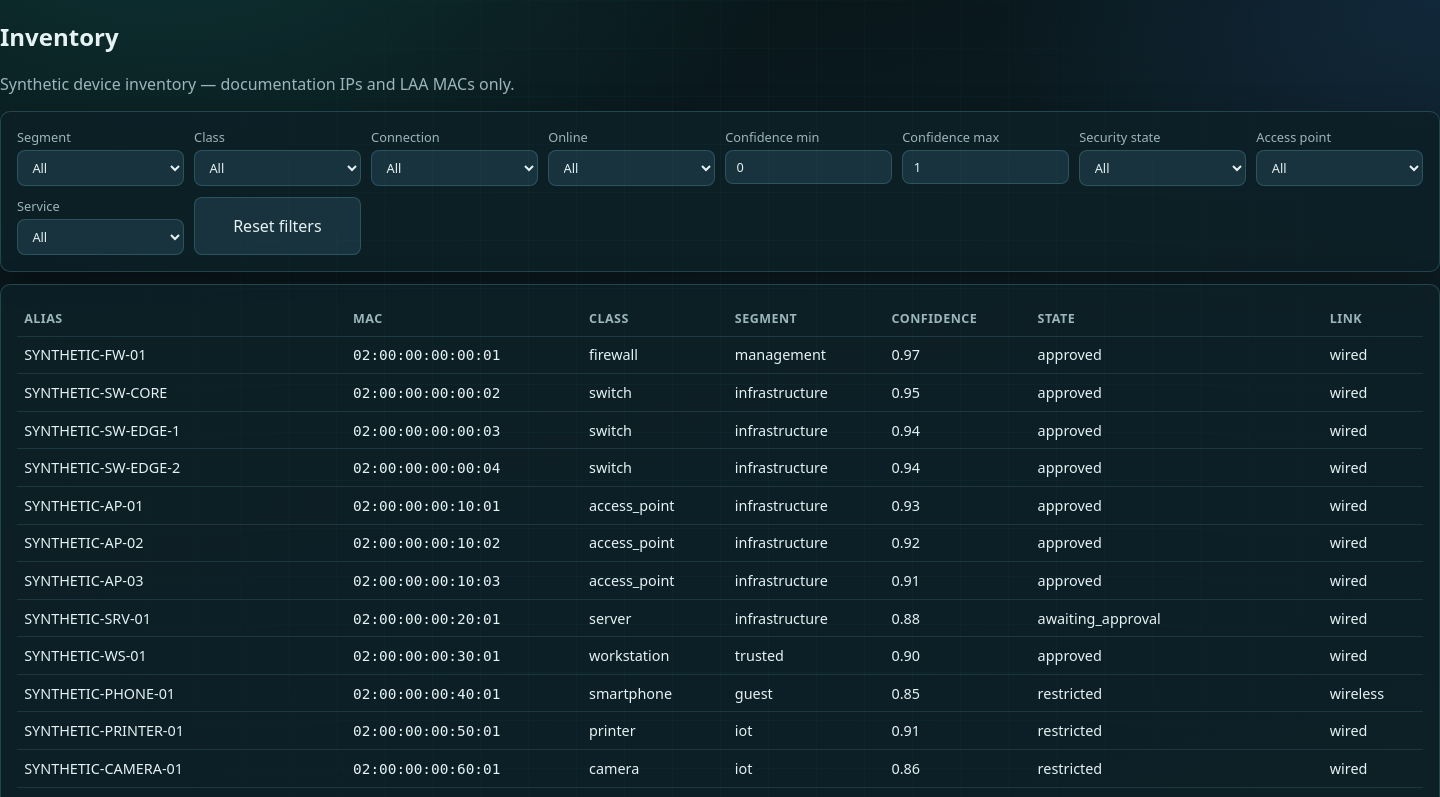
it: Filters › filters by segment
The width and height of the screenshot is (1440, 797).
Step 1. Select "quarantine" in the dropdown named "Filter by segment" → (100, 168), box [17,150,184,186]
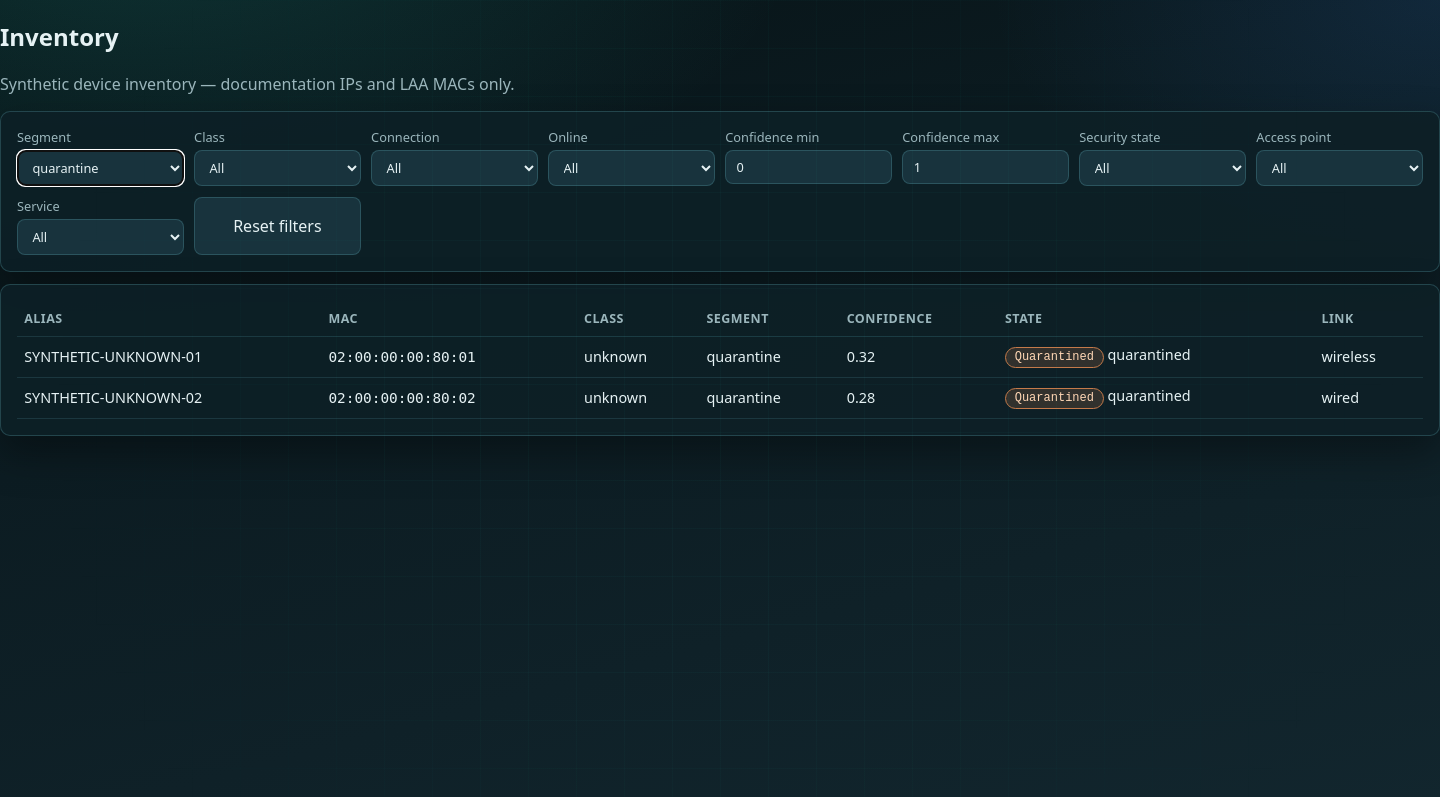
Expected: the text "SYNTHETIC-UNKNOWN-01" is shown, [17,336,321,377]
Expected: the text "SYNTHETIC-FW-01" is gone
